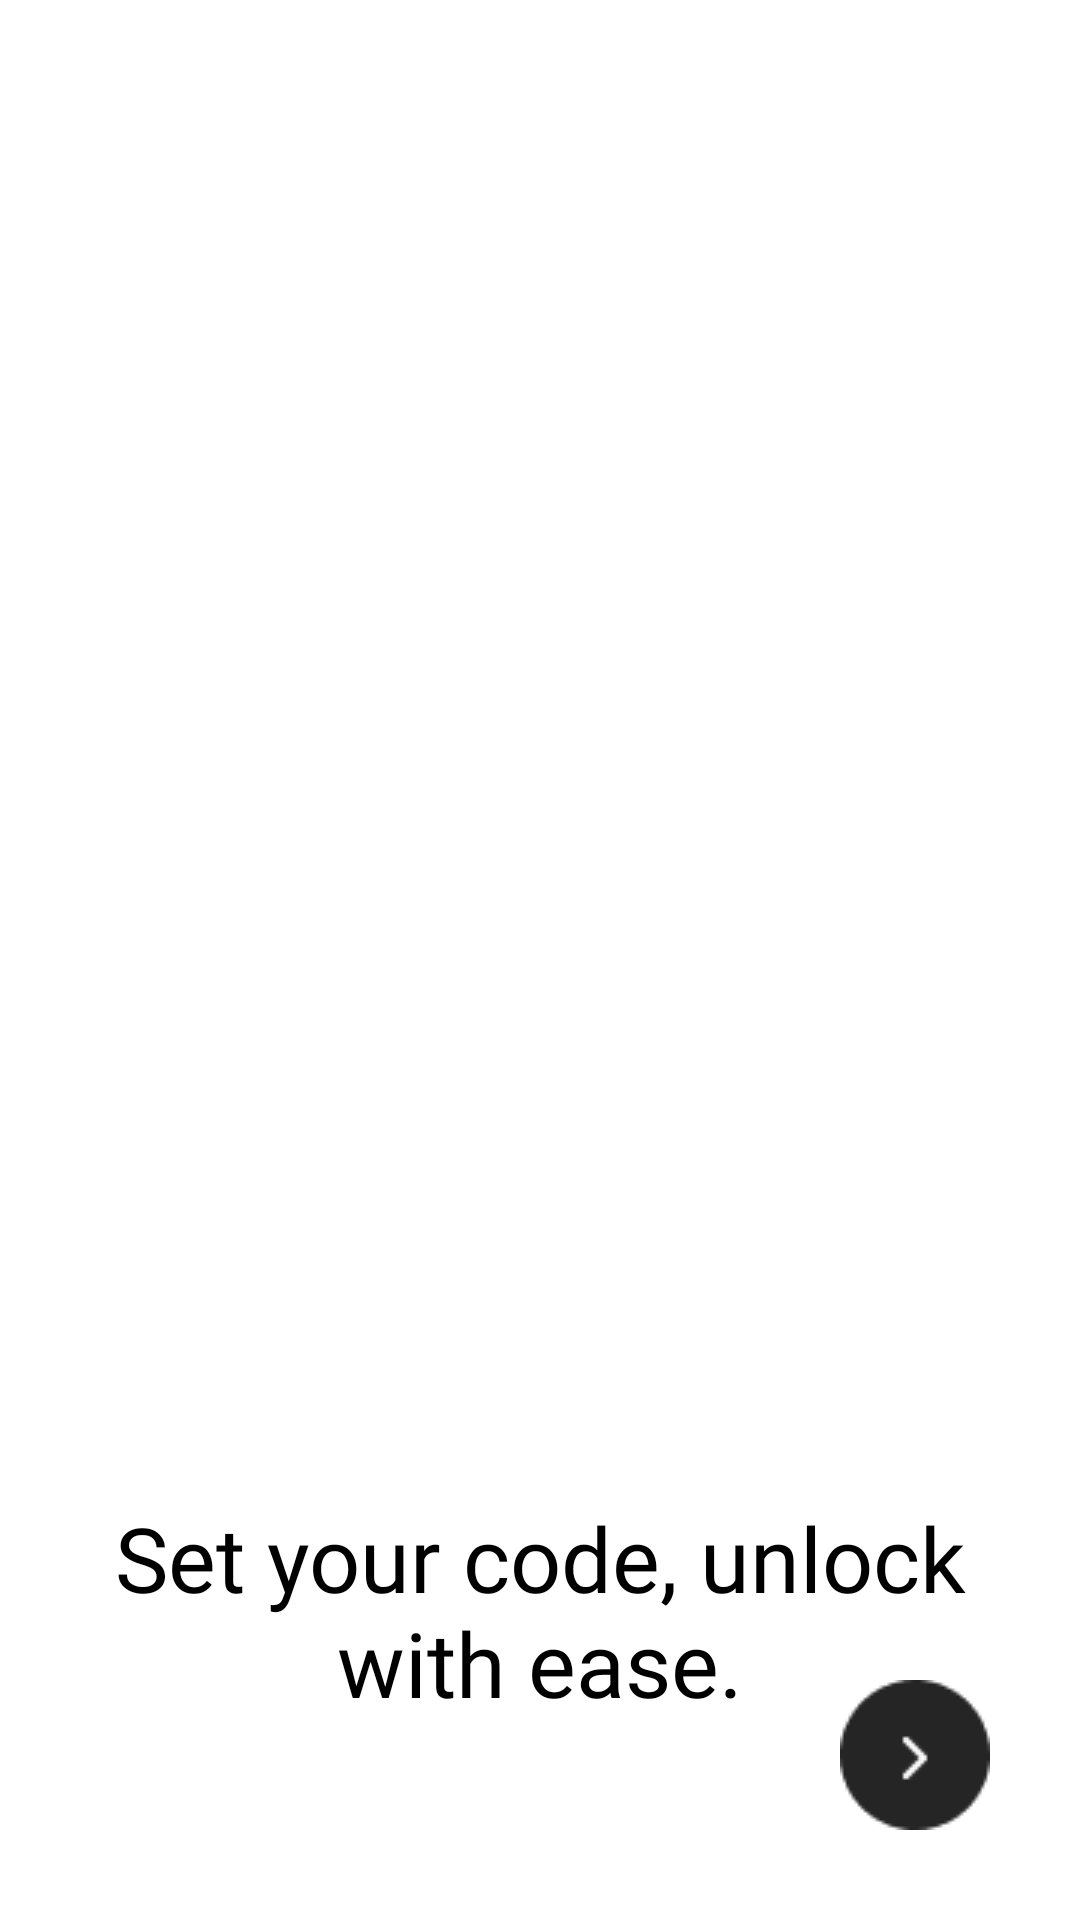

Icon bounding boxes for this 1080 x 1920 phone screenshot, format (x1, y1, x2, y2):
next: (840, 1680, 990, 1830)
